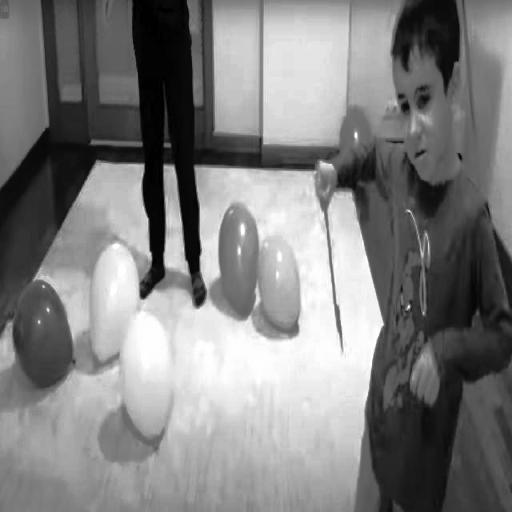balloon: (11, 274, 75, 389), (124, 312, 172, 446), (89, 245, 140, 366), (219, 204, 261, 318), (258, 235, 301, 338), (338, 110, 376, 189)
